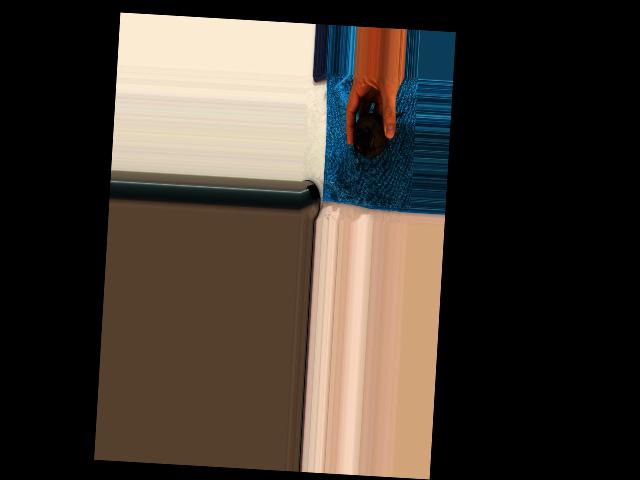beet: (352, 109, 404, 173)
